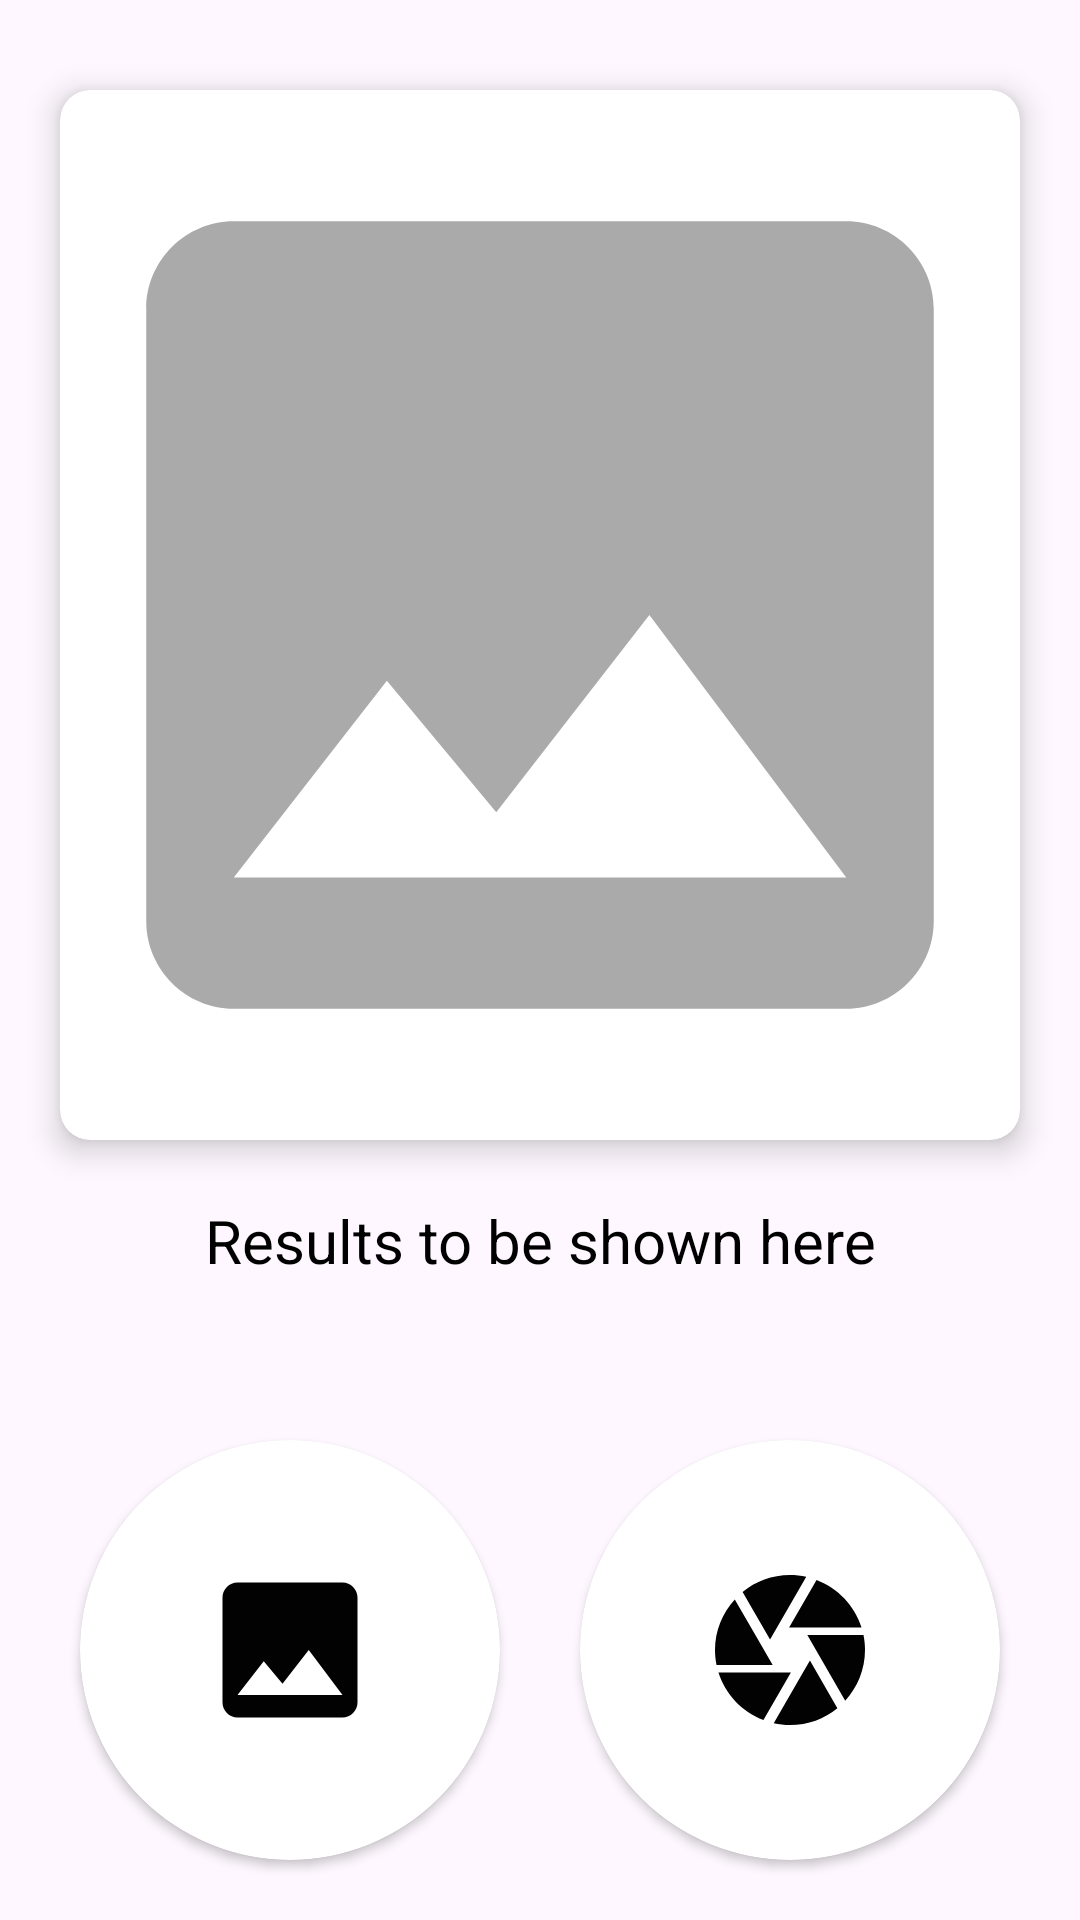

Screen size 1080×1920. Icon name, then its center in pixels as (x,y):
camera: (790,1650)
